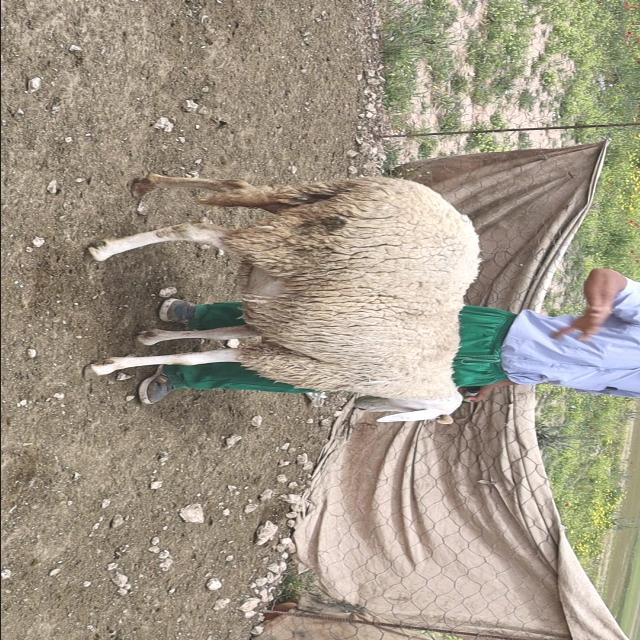Score_5: (85, 174, 479, 424)
